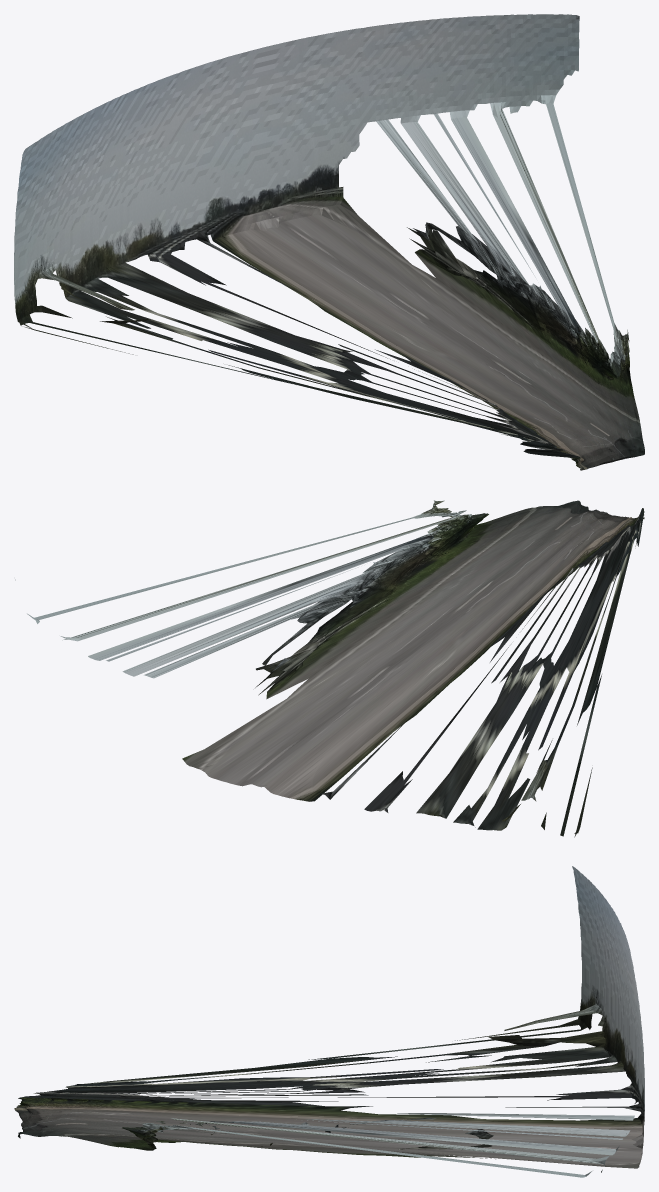
3 renders of one model, top to bottom at view 1: azimuth 30°, elevation 25°; view 2: azimuth 150°, elevation 25°; view 3: azimuth 270°, elevation 25°, orthographic. The views are drawn at different scales.
Visible parts, largest first — view 1: defaultobject; view 2: defaultobject; view 3: defaultobject.
Boxes of the visible parts, left/top/right/bottom form: defaultobject: left=14, top=14, right=644, bottom=470; defaultobject: left=15, top=500, right=644, bottom=837; defaultobject: left=14, top=866, right=644, bottom=1177.
Size of the model in its own units: 41.03 by 13.23 by 44.67.
Materials: 1 (1 with a texture image).
